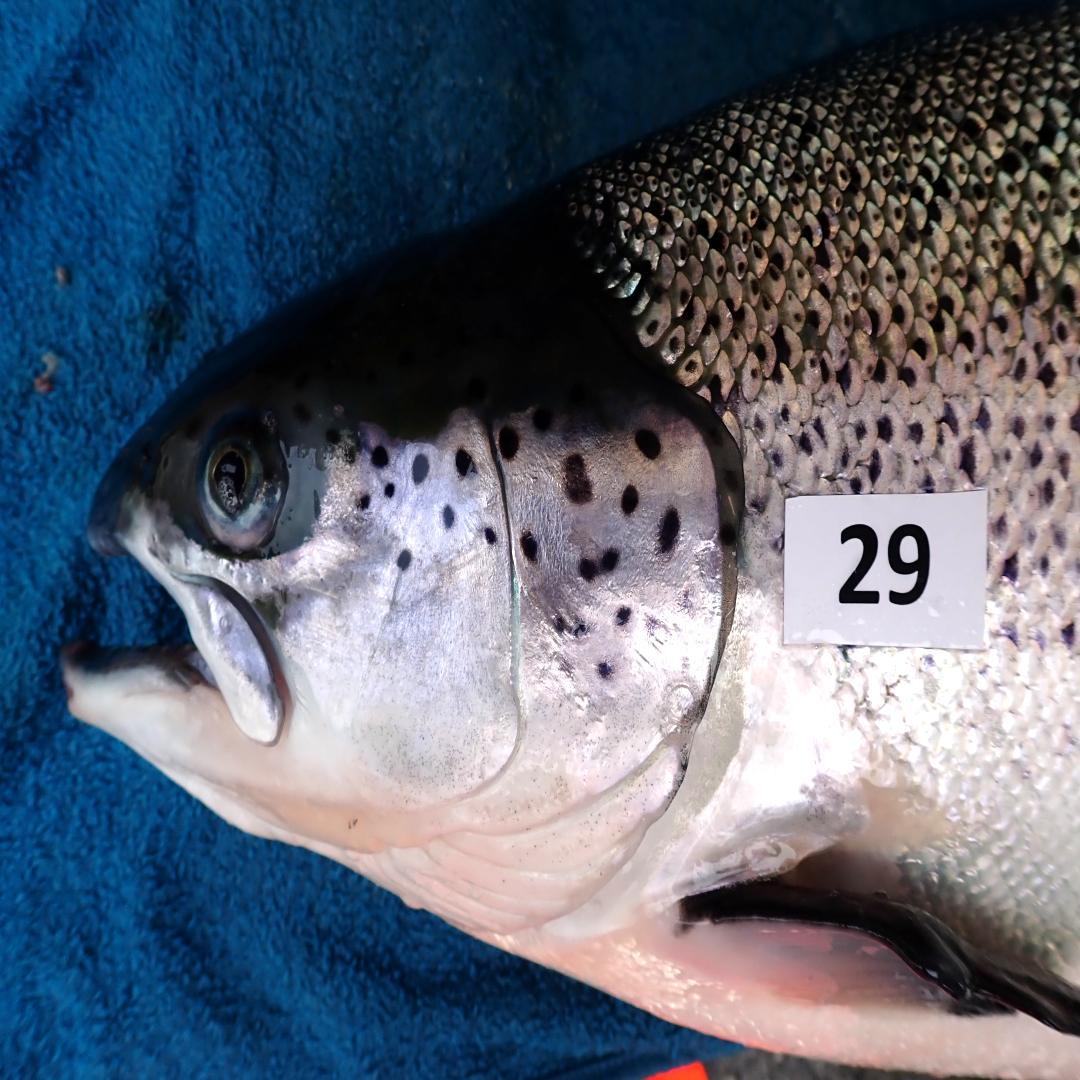roi: (284, 405, 729, 944)
